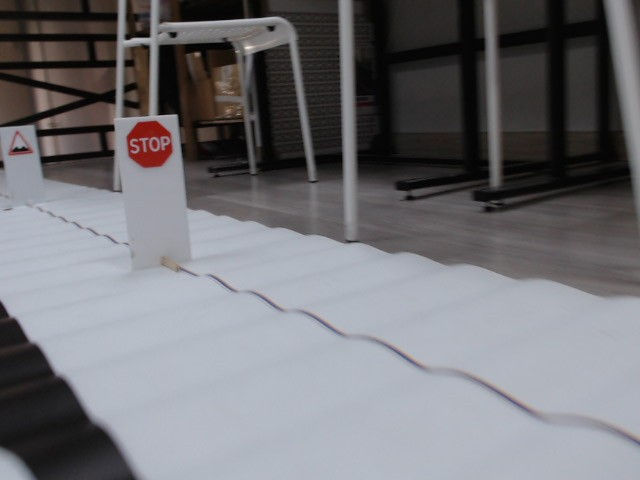Stop: (124, 122, 176, 168)
